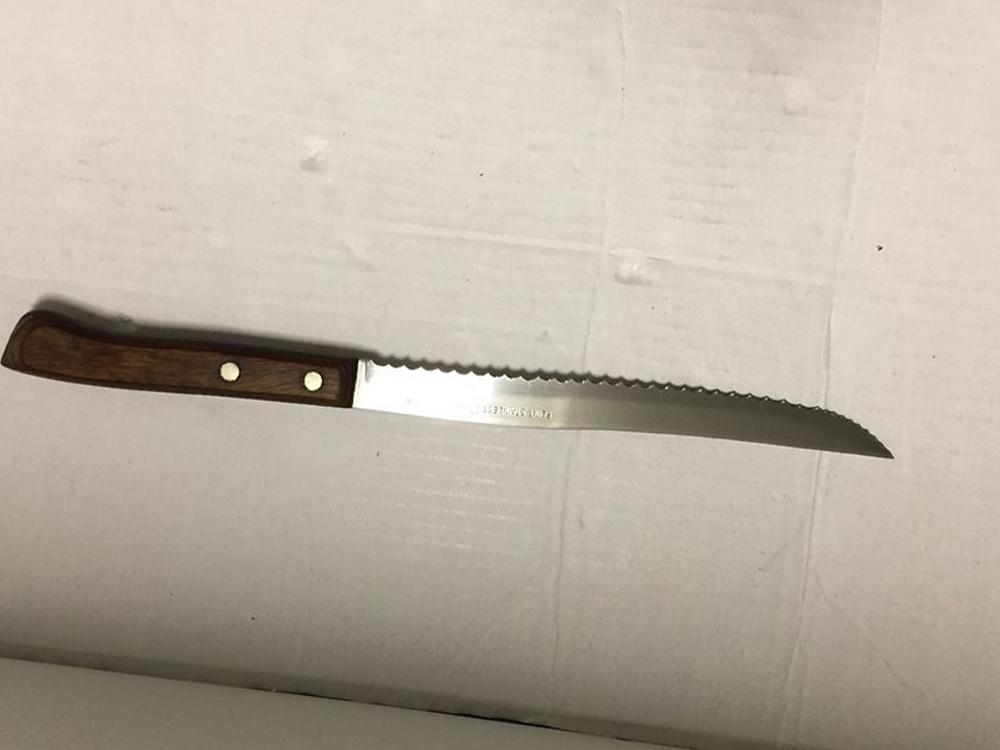knife: (4, 309, 895, 459)
